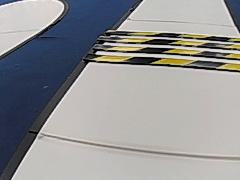bump: (77, 25, 240, 78)
